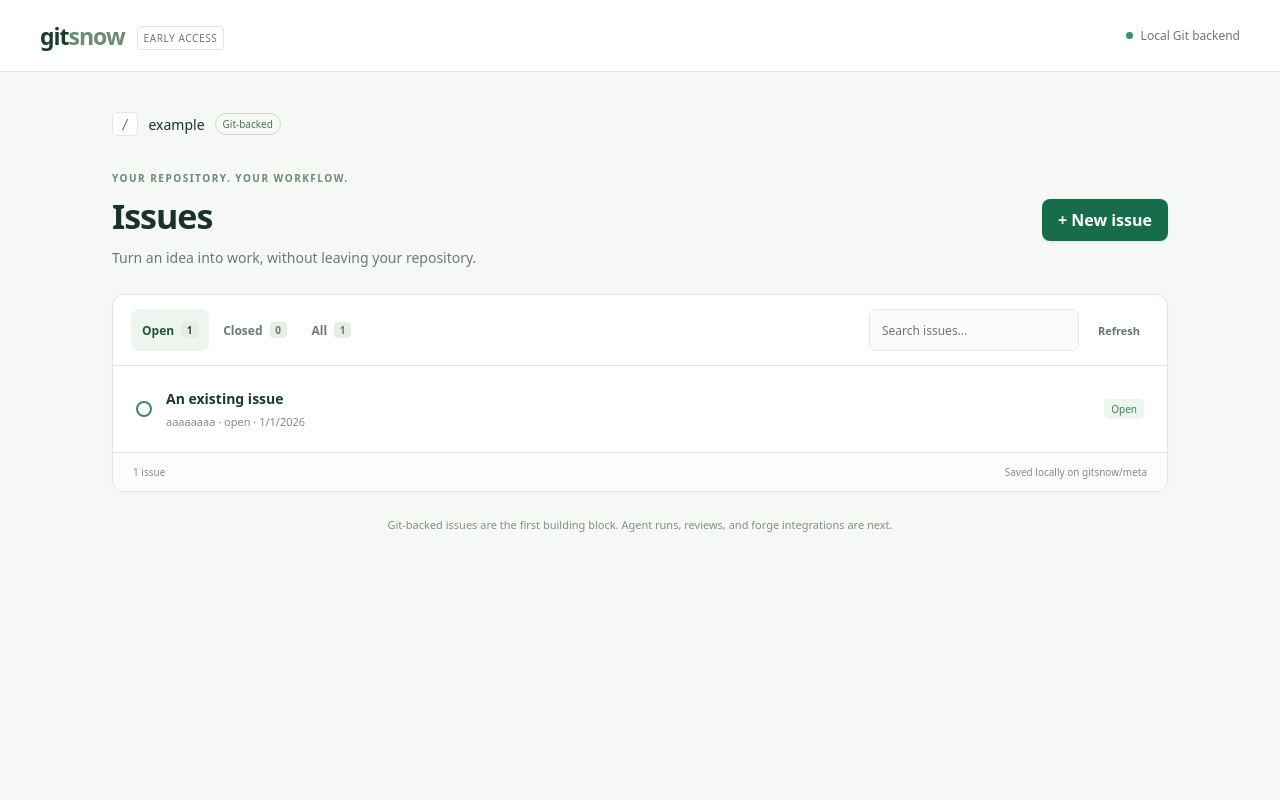
Scenario: issue workflow › rolls back a rejected edit and preserves the draft
Click the button "An existing issue".
click(225, 399)  # box [113,366,1167,452]
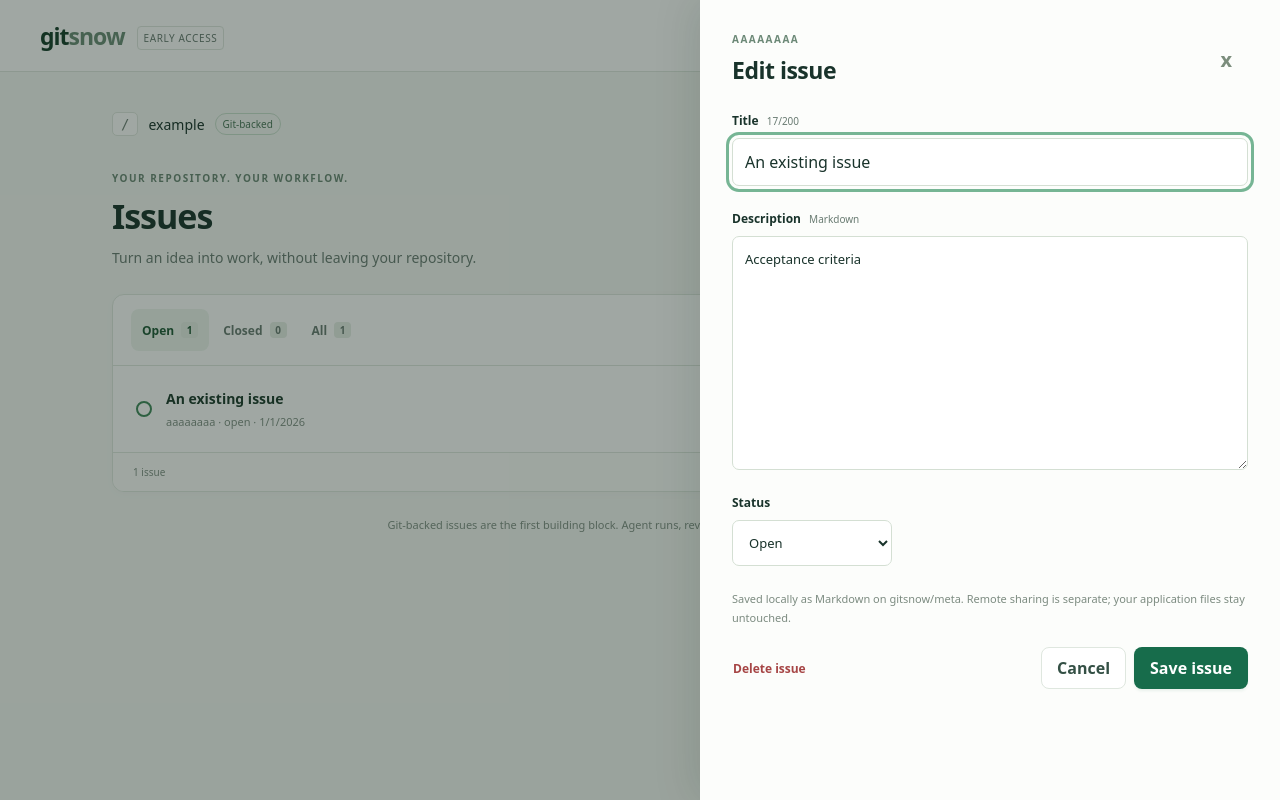
Replace the text in the field labelled "Title 17/200" with "My draft" at (990, 162), box [732,138,1248,186]
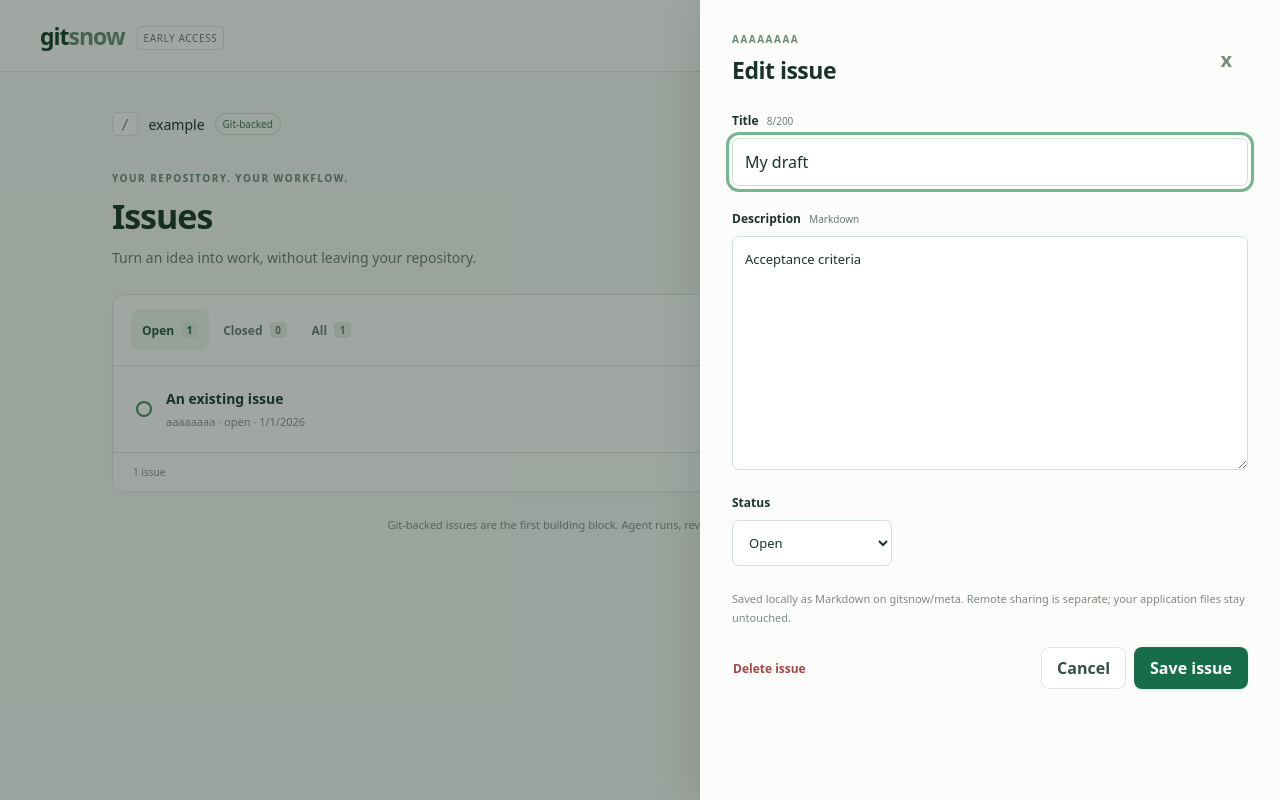
Click the button "Save issue".
click(1191, 668)  # box [1134,647,1248,689]
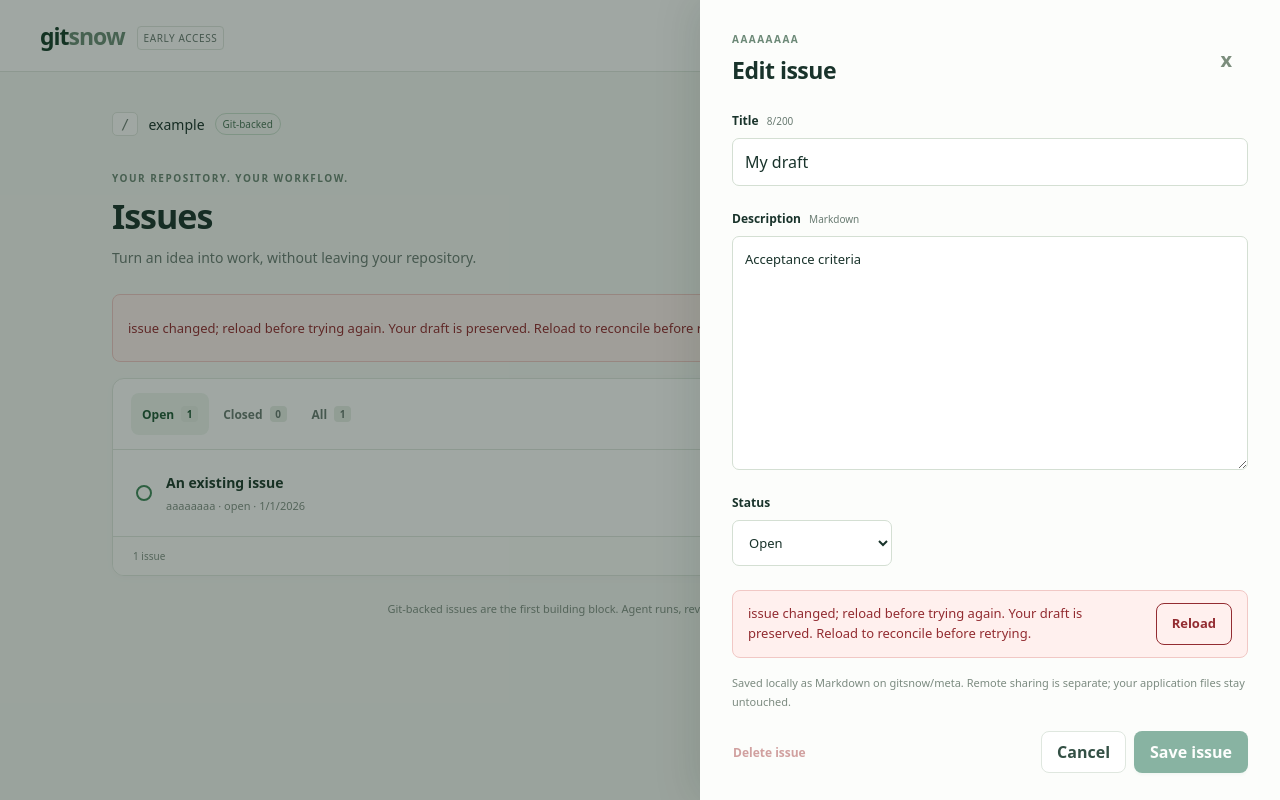
Check: the text "An existing issue" is shown, box [166,473,284,492]
Check: the message below "Your repository. Your workflow." shows "issue changed", box [128,319,749,337]
Check: the button "Save issue" is disabled, box [1134,731,1248,773]
